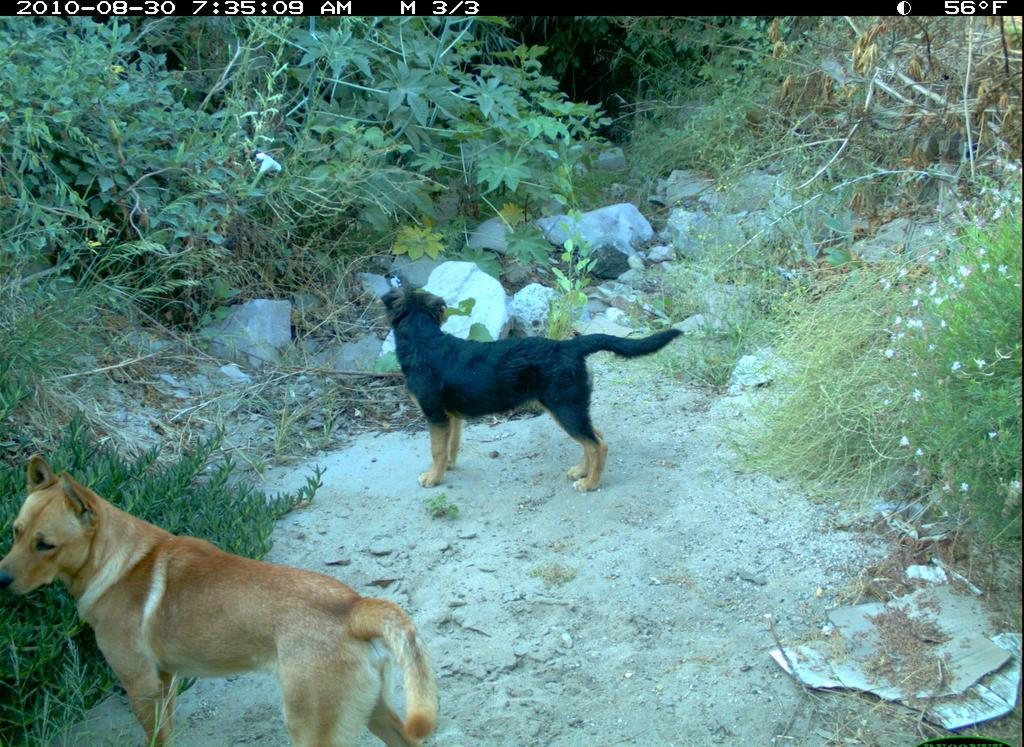dog: (1, 445, 445, 747), (374, 278, 693, 509)
